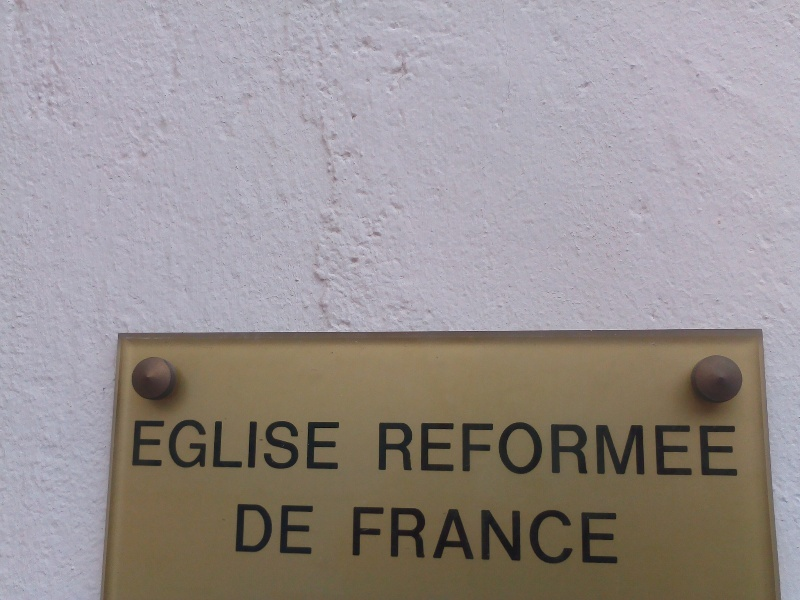text: (353, 504, 368, 568), (369, 504, 384, 568), (385, 504, 400, 568), (401, 504, 416, 568), (417, 504, 432, 568), (433, 504, 448, 568), (449, 504, 464, 568), (465, 504, 480, 568), (481, 504, 496, 568), (497, 504, 512, 568), (513, 504, 528, 568), (529, 504, 544, 568), (545, 504, 560, 568), (561, 504, 576, 568), (577, 504, 592, 568), (593, 504, 608, 568), (385, 420, 400, 481), (401, 420, 416, 481), (417, 420, 432, 481), (433, 420, 448, 481), (449, 420, 464, 481), (465, 420, 480, 481), (481, 420, 496, 481), (497, 420, 512, 481), (513, 420, 528, 481), (529, 420, 544, 481), (545, 420, 560, 481), (561, 420, 576, 481), (577, 420, 592, 481), (593, 420, 608, 481), (609, 420, 624, 481), (625, 420, 640, 481), (641, 420, 656, 481), (657, 420, 672, 481), (673, 420, 688, 481), (689, 420, 704, 481), (705, 420, 720, 481), (721, 420, 736, 481), (145, 419, 160, 475), (161, 419, 176, 475), (177, 419, 192, 475), (193, 419, 208, 475), (209, 419, 224, 475), (225, 419, 240, 475), (241, 419, 256, 475), (257, 419, 272, 475), (273, 419, 288, 475), (289, 419, 304, 475), (305, 419, 320, 475), (321, 419, 336, 475), (241, 504, 256, 556), (257, 504, 272, 556), (273, 504, 288, 556), (289, 504, 304, 556), (609, 504, 619, 568), (134, 419, 144, 475), (305, 504, 315, 556), (337, 419, 343, 475), (379, 420, 384, 481), (237, 504, 240, 556), (737, 420, 738, 481)
